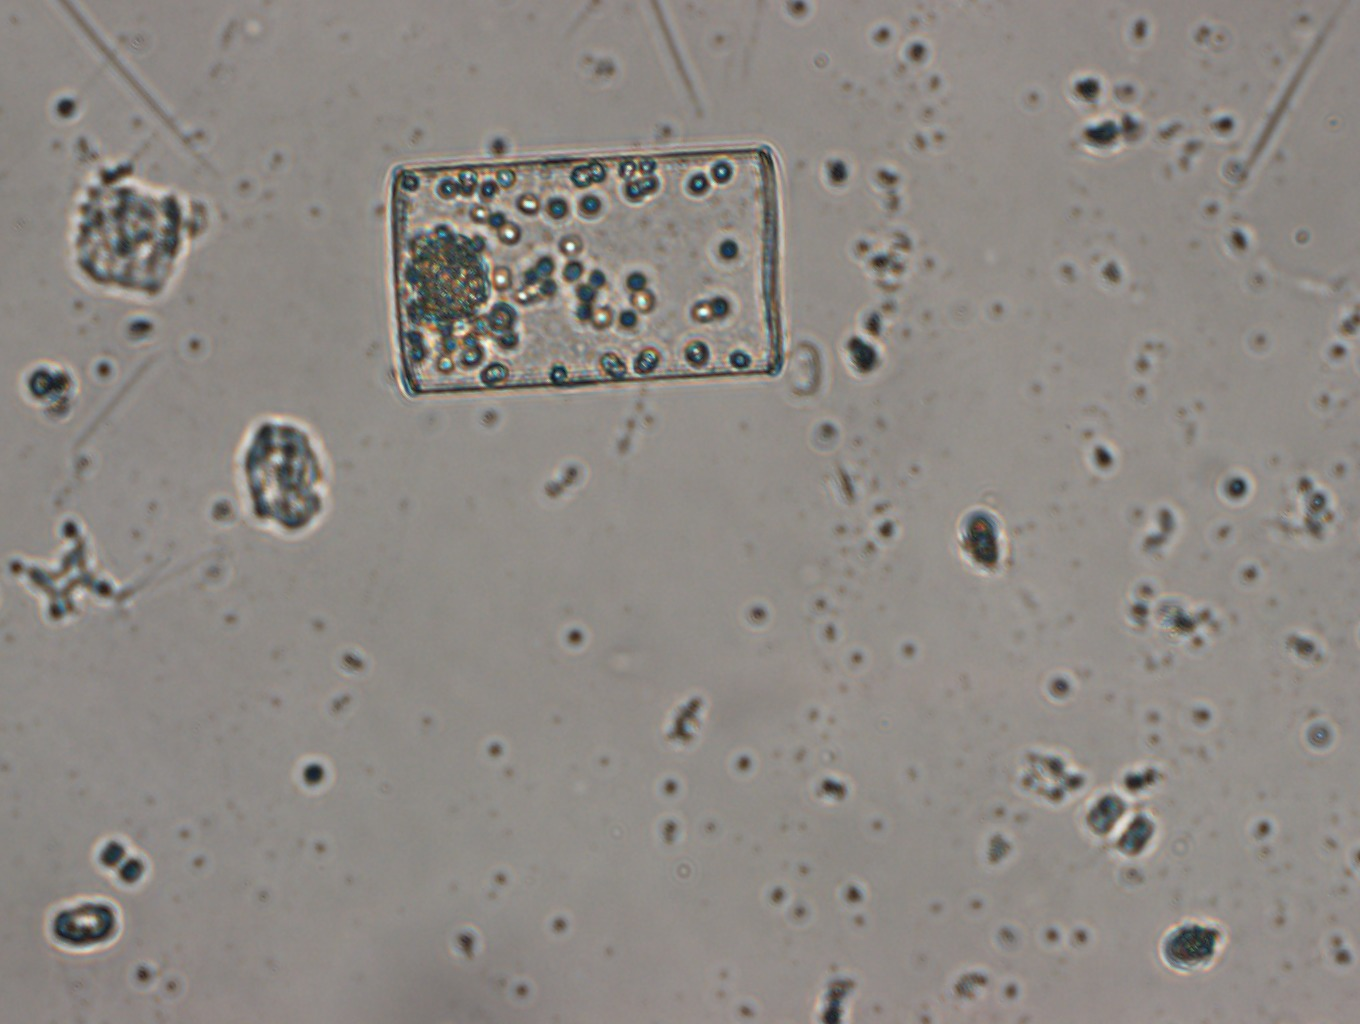guinardia flaccida: (388, 136, 791, 404)
